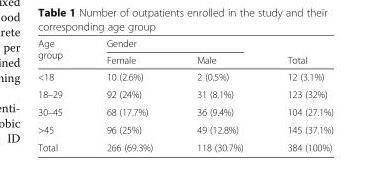table: (37, 37, 332, 152)
table column: (83, 37, 174, 152), (174, 37, 264, 152), (264, 37, 332, 152), (37, 37, 83, 152)
table column header: (37, 37, 332, 67)
table row: (37, 67, 332, 85), (37, 102, 332, 120), (37, 120, 332, 138), (37, 85, 332, 102), (37, 51, 332, 67), (37, 37, 332, 51), (37, 138, 332, 152)
table spanning cell: (83, 37, 264, 51), (264, 37, 332, 67), (37, 37, 83, 67)
